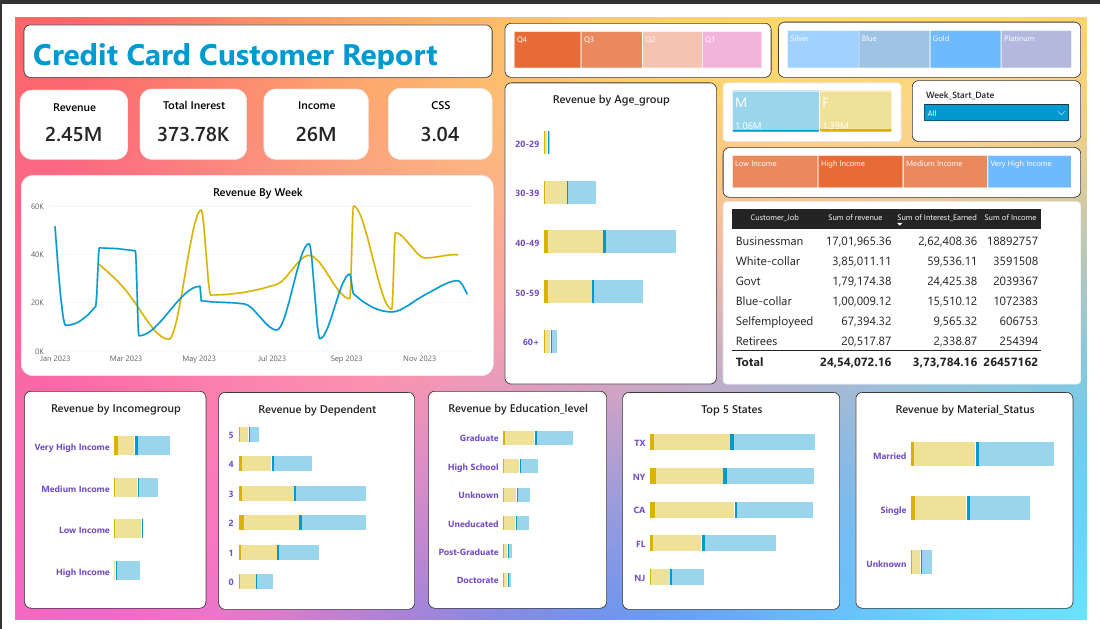

What the dashboard file says about the page in this screenshot:
{"tool":"powerbi","page":{"name":"Credit_card Customer ","canvas":[1920,1080],"ordinal":1},"visuals":[{"type":"shape","box":[15,13.3,840,95],"z":0},{"type":"tableEx","fields":{"Values":["customer.Customer_Job","Sum(credit_card.revenue)","Sum(credit_card.Interest_Earned)","Sum(customer.Income)"]},"box":[1268.3,330,641.7,328.3],"z":1000},{"type":"cardVisual","title":"Revenue","fields":{"Data":["Sum(credit_card.revenue)"]},"box":[8.3,130,193.3,125],"z":2000},{"type":"cardVisual","title":"Total Inerest","fields":{"Data":["Sum(credit_card.Interest_Earned)"]},"box":[223.3,128.3,191.7,126.7],"z":3000},{"type":"cardVisual","title":"Income","fields":{"Data":["Sum(customer.Income)"]},"box":[445,128.3,188.3,126.7],"z":4000},{"type":"cardVisual","title":"CSS","fields":{"Data":["Avg(customer.Cust_Satisfaction_Score)"]},"box":[668.3,126.7,186.7,128.3],"z":5000},{"type":"slicer","fields":{"Values":["credit_card.Week_Start_Date"]},"box":[1606.7,113.3,303.3,110],"z":6000},{"type":"treemap","fields":{"Group":["credit_card.Qtr"],"Values":["Avg(credit_card.Client_Num)"]},"box":[876.7,10,478.3,98.3],"z":7000},{"type":"treemap","fields":{"Values":["Avg(credit_card.Client_Num)"],"Group":["credit_card.Card_Category"]},"box":[1366.7,8.3,543.3,100],"z":9000},{"type":"treemap","fields":{"Values":["Avg(credit_card.Client_Num)"],"Group":["customer.Income Group"]},"box":[1268.3,233.3,641.7,90],"z":10000},{"type":"barChart","title":"Revenue by Incomegroup","fields":{"Y":["Sum(credit_card.revenue)"],"Category":["customer.Income Group"],"Series":["customer.Gender"]},"box":[16,670,326,390],"z":11000},{"type":"treemap","fields":{"Group":["customer.Gender"],"Values":["Sum(credit_card.revenue)"]},"box":[296,330,372,134],"z":12000},{"type":"lineChart","title":"Revenue By Week","fields":{"Y":["Sum(credit_card.revenue)"],"Series":["customer.Gender"],"Category":["credit_card.Week_Start_Date.Variation.Date Hierarchy.Year","credit_card.Week_Start_Date.Variation.Date Hierarchy.Month","credit_card.Week_Start_Date.Variation.Date Hierarchy.Day"]},"box":[10,283.3,846.7,360],"z":13000},{"type":"barChart","title":"Revenue by Age_group","fields":{"Y":["Sum(credit_card.revenue)"],"Category":["customer.Age Group"],"Series":["customer.Gender"]},"box":[876.7,116.7,380,541.7],"z":14000},{"type":"barChart","title":"Revenue by Dependent","fields":{"Category":["customer.Dependent_Count"],"Y":["Sum(credit_card.revenue)"],"Series":["customer.Gender"]},"box":[364,672,352,390],"z":15000},{"type":"barChart","title":"Revenue by  Education_level","fields":{"Y":["Sum(credit_card.revenue)"],"Category":["customer.Education_Level"],"Series":["customer.Gender"]},"box":[740,670,320,390],"z":16000},{"type":"barChart","title":"Top 5 States","fields":{"Y":["Sum(credit_card.revenue)"],"Category":["customer.state_cd"],"Series":["customer.Gender"]},"box":[1088,672,390,390],"z":17000},{"type":"barChart","title":"Revenue by Material_Status","fields":{"Y":["Sum(credit_card.revenue)"],"Category":["customer.Marital_Status"],"Series":["customer.Gender"]},"box":[1506,672,390,388],"z":18000},{"type":"treemap","fields":{"Group":["customer.Gender"],"Values":["Sum(credit_card.revenue)"]},"box":[1268.3,116.7,320,106.7],"z":19000}]}

Visuals, with their boxes in screenshot pixels (x1, y1, x2, y2), scaled from the page's 1920x1080 canvas onto the 1100x629 screenshot:
shape: <region>9, 8, 490, 63</region>
tableEx - customer.Customer_Job x Sum(credit_card.revenue): <region>727, 192, 1094, 383</region>
"Revenue" cardVisual: <region>5, 76, 116, 149</region>
"Total Inerest" cardVisual: <region>128, 75, 238, 149</region>
"Income" cardVisual: <region>255, 75, 363, 149</region>
"CSS" cardVisual: <region>383, 74, 490, 149</region>
slicer - credit_card.Week_Start_Date: <region>921, 66, 1094, 130</region>
treemap - credit_card.Qtr x Avg(credit_card.Client_Num): <region>502, 6, 776, 63</region>
treemap - Avg(credit_card.Client_Num) x credit_card.Card_Category: <region>783, 5, 1094, 63</region>
treemap - Avg(credit_card.Client_Num) x customer.Income Group: <region>727, 136, 1094, 188</region>
"Revenue by Incomegroup" barChart: <region>9, 390, 196, 617</region>
treemap - customer.Gender x Sum(credit_card.revenue): <region>170, 192, 383, 270</region>
"Revenue By Week" lineChart: <region>6, 165, 491, 375</region>
"Revenue by Age_group" barChart: <region>502, 68, 720, 383</region>
"Revenue by Dependent" barChart: <region>209, 391, 410, 619</region>
"Revenue by  Education_level" barChart: <region>424, 390, 607, 617</region>
"Top 5 States" barChart: <region>623, 391, 847, 619</region>
"Revenue by Material_Status" barChart: <region>863, 391, 1086, 617</region>
treemap - customer.Gender x Sum(credit_card.revenue): <region>727, 68, 910, 130</region>
